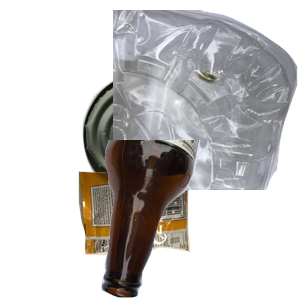glass: (99, 140, 300, 300)
metal: (80, 68, 284, 248)
plastic: (113, 10, 300, 190)
trash: (76, 159, 259, 300)
